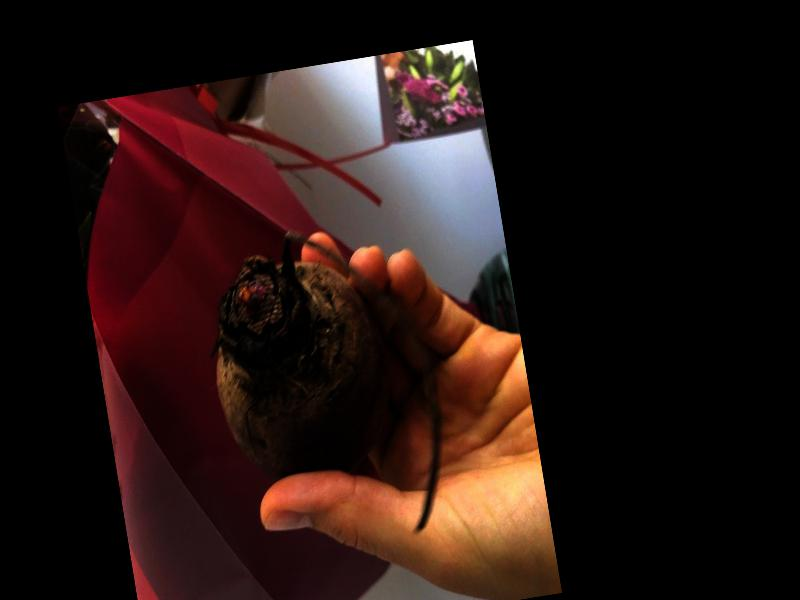Beet: (194, 210, 457, 560)
